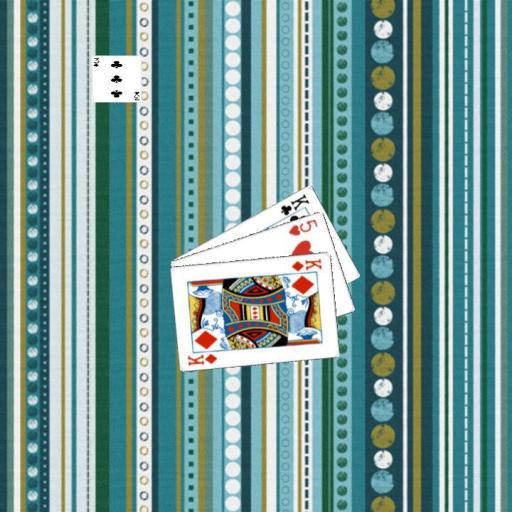5H: (285, 216, 319, 237)
KC: (278, 190, 311, 222)
KD: (288, 256, 324, 273), (185, 350, 219, 367)
